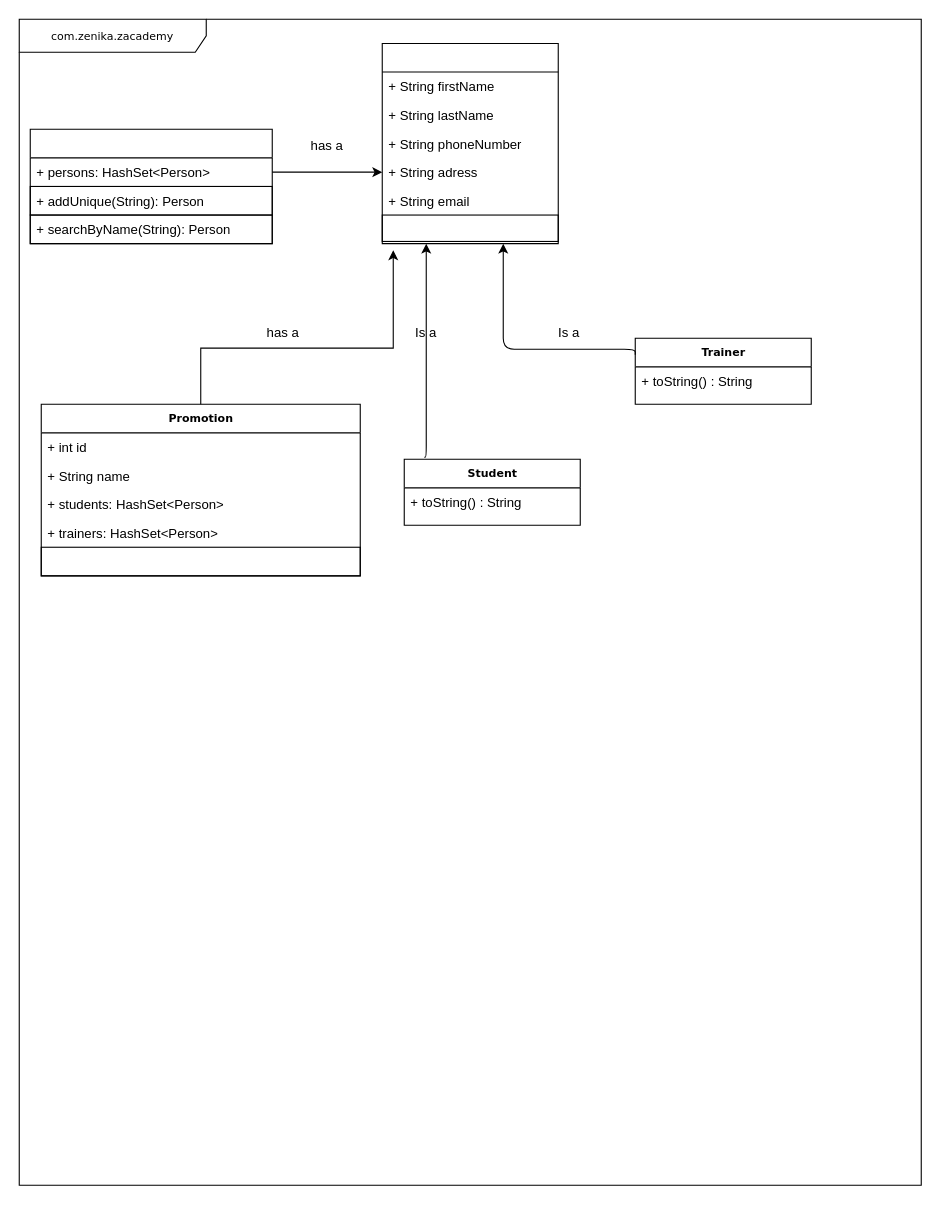
The diagram is 941 pixels wide and 1205 high, and some of its shapes have lost their labels. Each missing label, with the box of its shape:
+ to String() :: (40, 546, 360, 576)
Directory: (29, 128, 272, 244)
Person: (381, 42, 558, 244)
